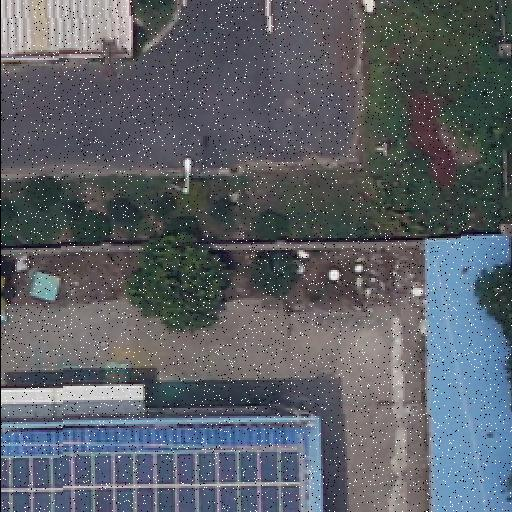solar-panel: (1, 452, 303, 512)
